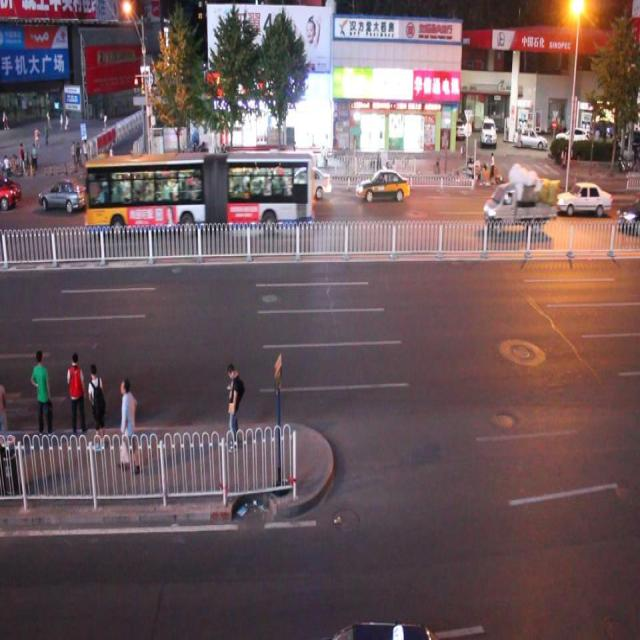bus: (481, 174, 557, 234)
car: (320, 614, 448, 640), (555, 180, 611, 216), (356, 167, 409, 204), (39, 177, 88, 214), (185, 167, 229, 208), (282, 165, 331, 198), (103, 168, 141, 205), (614, 190, 640, 232), (1, 173, 20, 211), (480, 115, 496, 146)
van: (84, 152, 315, 233)
